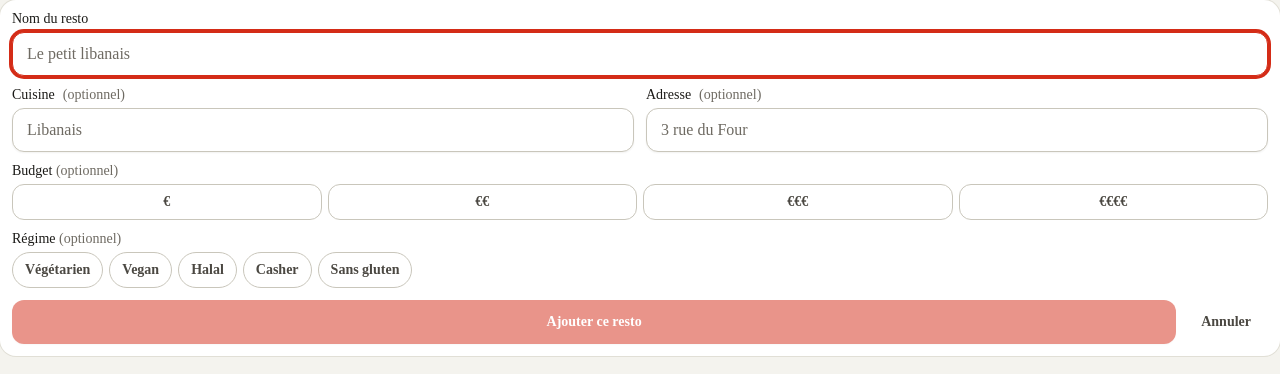
AddRestaurantForm › should keep the submit button disabled until the name is long enough
Expected: the button "Ajouter ce resto" is disabled, [12,300,1176,344]
Type "A" into the field labelled "Nom du resto". click: [640, 54]
box: [12,32,1268,76]
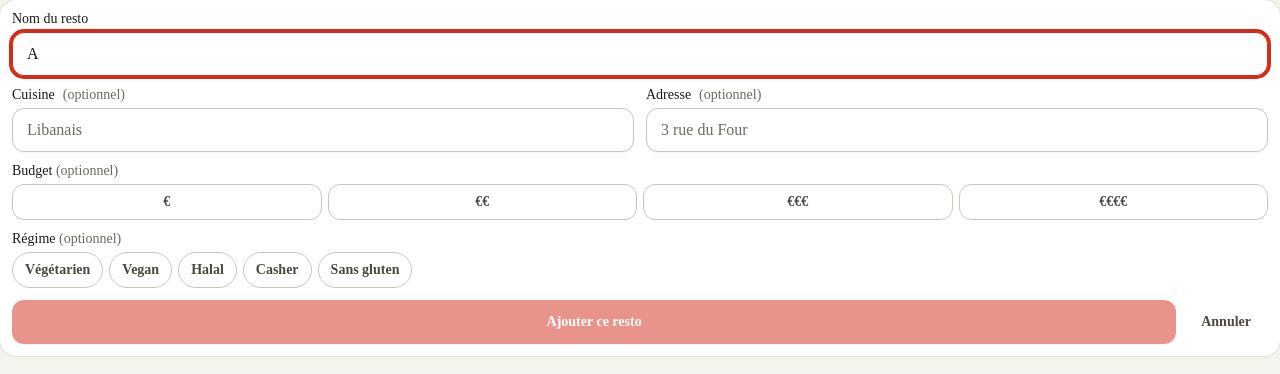
Expected: the button "Ajouter ce resto" is disabled, [12,300,1176,344]
Type "o" into the field labelled "Nom du resto". click: [640, 54]
box: [12,32,1268,76]
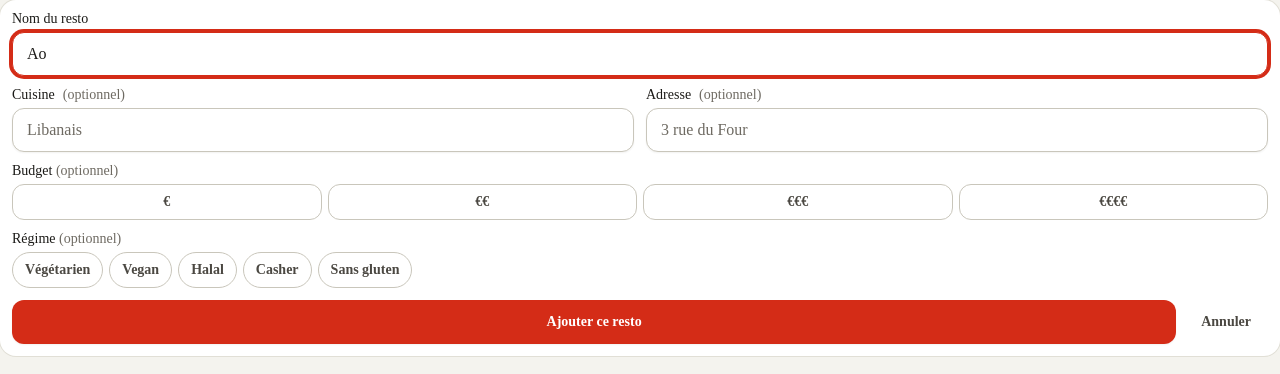
Expected: the button "Ajouter ce resto" is enabled, [12,300,1176,344]
